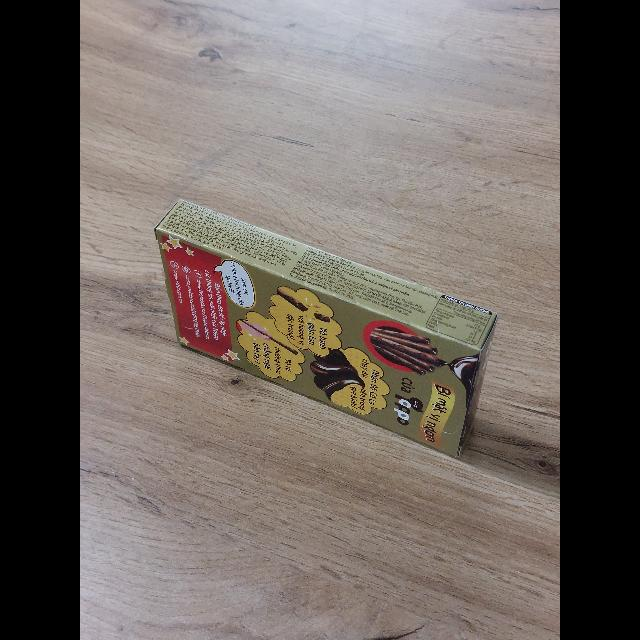banh_toppo_socola: (154, 200, 497, 457)
